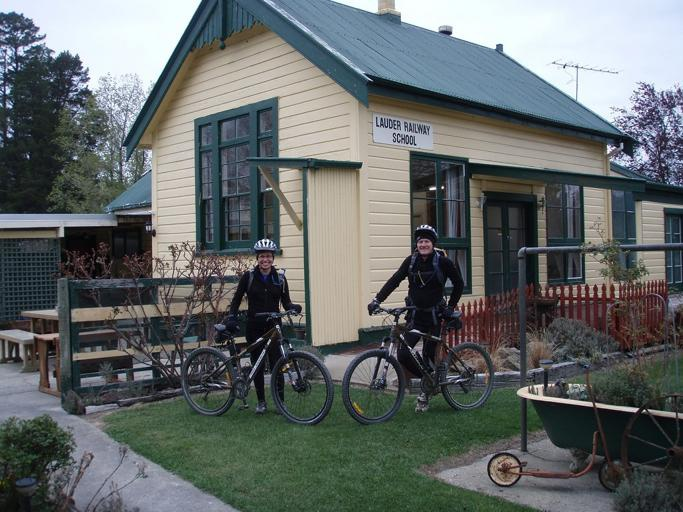non-vehicle: (342, 306, 493, 424), (181, 308, 333, 424)
